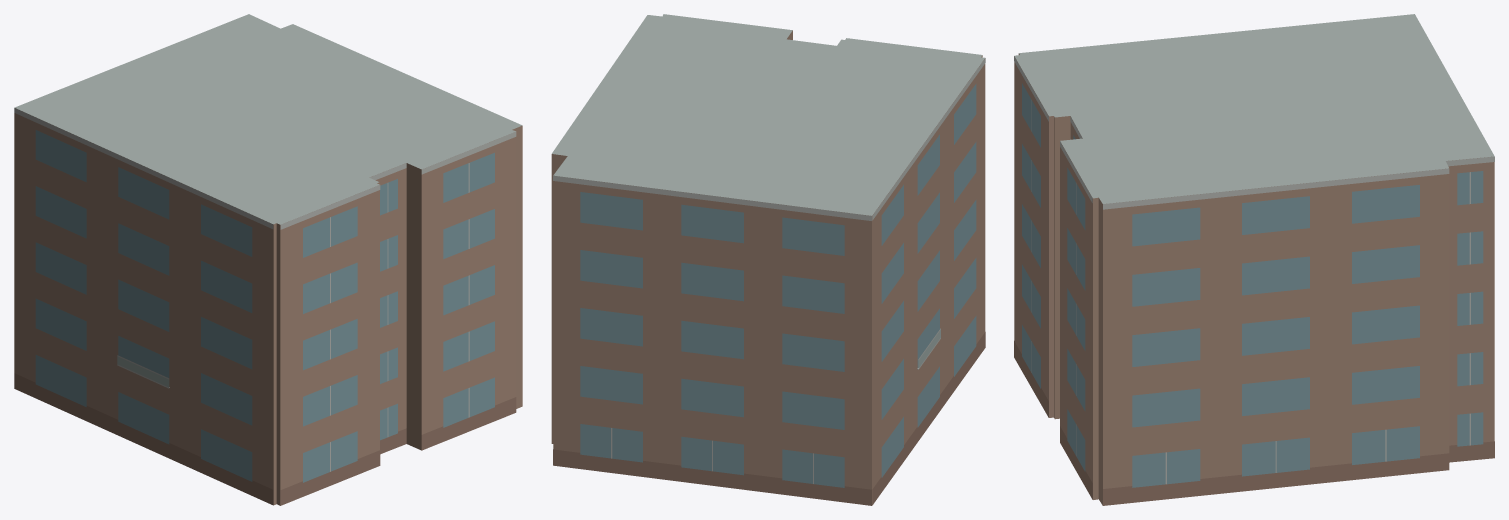
File: survey-upis-32820325.glb
The picture shows the model from 3 angles, left to right: view 1: azimuth 30°, elevation 25°; view 2: azimuth 150°, elevation 25°; view 3: azimuth 270°, elevation 25°; orthographic projection. The views are drawn at different scales.
Parts seen in each view (by area): view 1: survey-upis-32820325.tmp; view 2: survey-upis-32820325.tmp; view 3: survey-upis-32820325.tmp.
Part boxes in pixels (x1,y1,x2,y2): survey-upis-32820325.tmp: (14,14,522,505); survey-upis-32820325.tmp: (551,14,985,505); survey-upis-32820325.tmp: (1014,14,1494,505).
Size of the model in its own units: 17.98 by 13.3 by 19.21.
